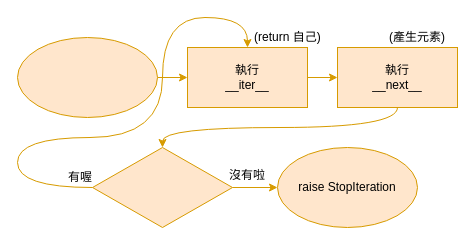
Some shapes in this 475 by 245 pixel diagram are drawn without their labels. The centre of each missing label's shape, as x and y in pixels:
"for ... in 被迭代的物件" goes at (x=87, y=77).
"還有物件要產生嗎" goes at (x=162, y=187).
